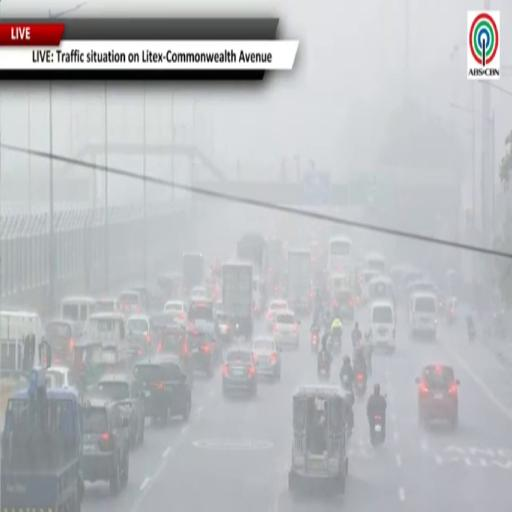bus: (328, 236, 352, 273), (364, 252, 386, 274)
car: (82, 397, 129, 494), (134, 355, 192, 424), (96, 374, 145, 446), (416, 364, 459, 427), (222, 346, 257, 396), (45, 319, 81, 364), (188, 327, 218, 377), (157, 326, 191, 369), (370, 300, 396, 351), (409, 293, 437, 339), (126, 315, 154, 359), (253, 336, 281, 379), (273, 310, 300, 348), (46, 365, 78, 393), (188, 298, 215, 326), (333, 287, 354, 322), (266, 299, 289, 330), (164, 300, 187, 326), (119, 291, 143, 314), (216, 311, 231, 343), (95, 298, 121, 312), (191, 286, 208, 298)
jeepney: (289, 384, 350, 494)
motorcycle: (371, 414, 384, 445), (355, 372, 366, 397), (331, 330, 341, 354), (318, 362, 330, 381), (311, 331, 320, 353), (447, 308, 456, 326), (468, 327, 476, 343)
truck: (0, 344, 84, 511), (236, 232, 268, 303), (223, 262, 253, 337), (287, 250, 311, 313), (237, 232, 267, 281), (267, 238, 285, 295), (183, 252, 204, 293)
